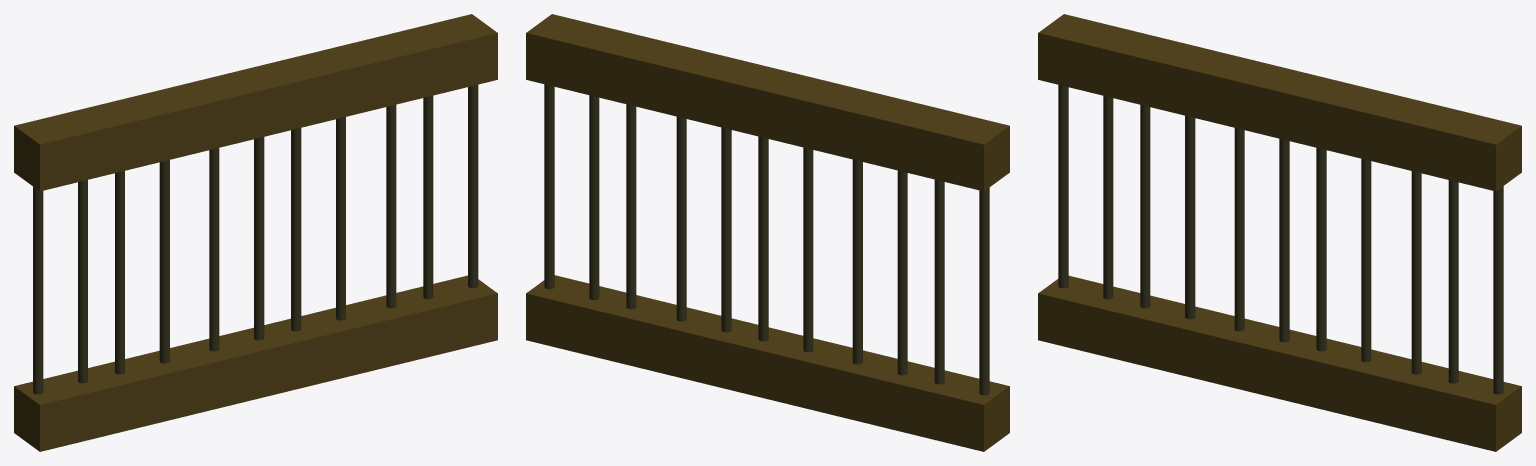
The model's file is Barrier.fbx.
3 views of the same model, side by side, from view 1: azimuth 30°, elevation 25°; view 2: azimuth 150°, elevation 25°; view 3: azimuth 330°, elevation 25° (orthographic).
Parts seen in each view (by area): view 1: Barrier; view 2: Barrier; view 3: Barrier.
Part boxes in pixels (left/top/right/bottom): Barrier: left=14, top=14, right=497, bottom=451; Barrier: left=526, top=14, right=1009, bottom=451; Barrier: left=1038, top=14, right=1521, bottom=451.
Bounding box in the file's own units: 2044 × 1311 × 200.
